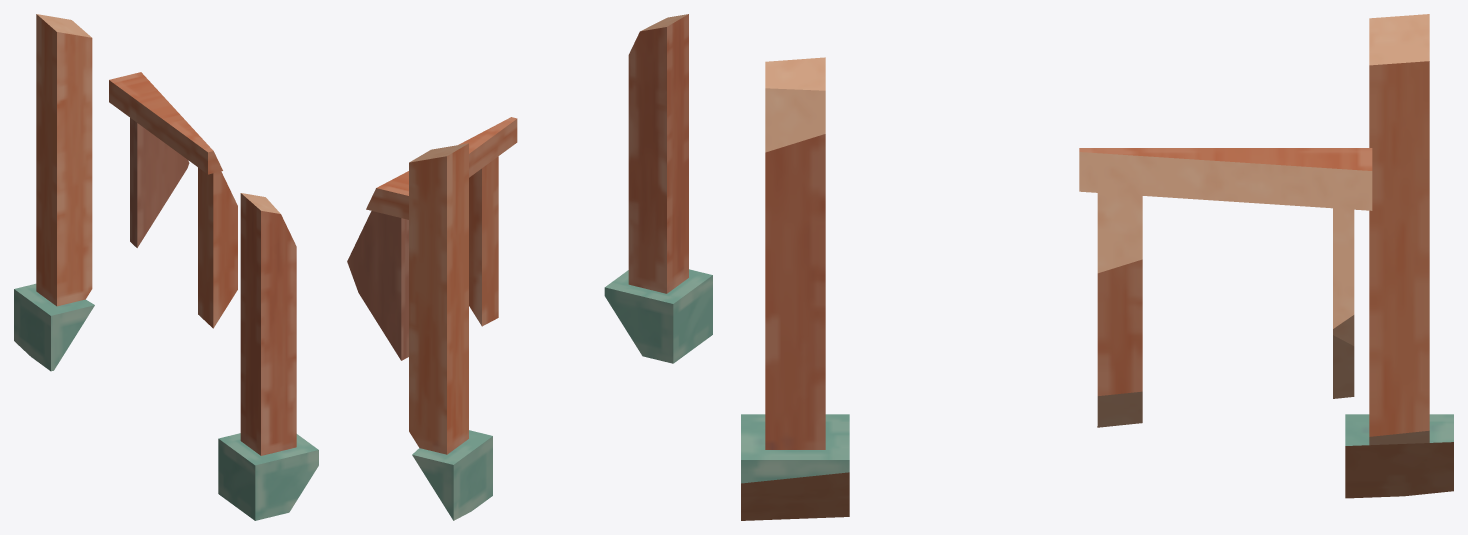
The model's file is stall_s03.fbx.
3 renders of one model, left to right at view 1: azimuth 30°, elevation 25°; view 2: azimuth 150°, elevation 25°; view 3: azimuth 270°, elevation 25°, orthographic. The views are drawn at different scales.
Parts seen in each view (by area): view 1: stall_s03; view 2: stall_s03; view 3: stall_s03.
Boxes of the visible parts, x1=… form: stall_s03: x1=14, y1=14, x2=318, y2=520; stall_s03: x1=347, y1=14, x2=712, y2=520; stall_s03: x1=741, y1=14, x2=1453, y2=520.
Size of the model in its own units: 1.52 by 3.6 by 4.72.
